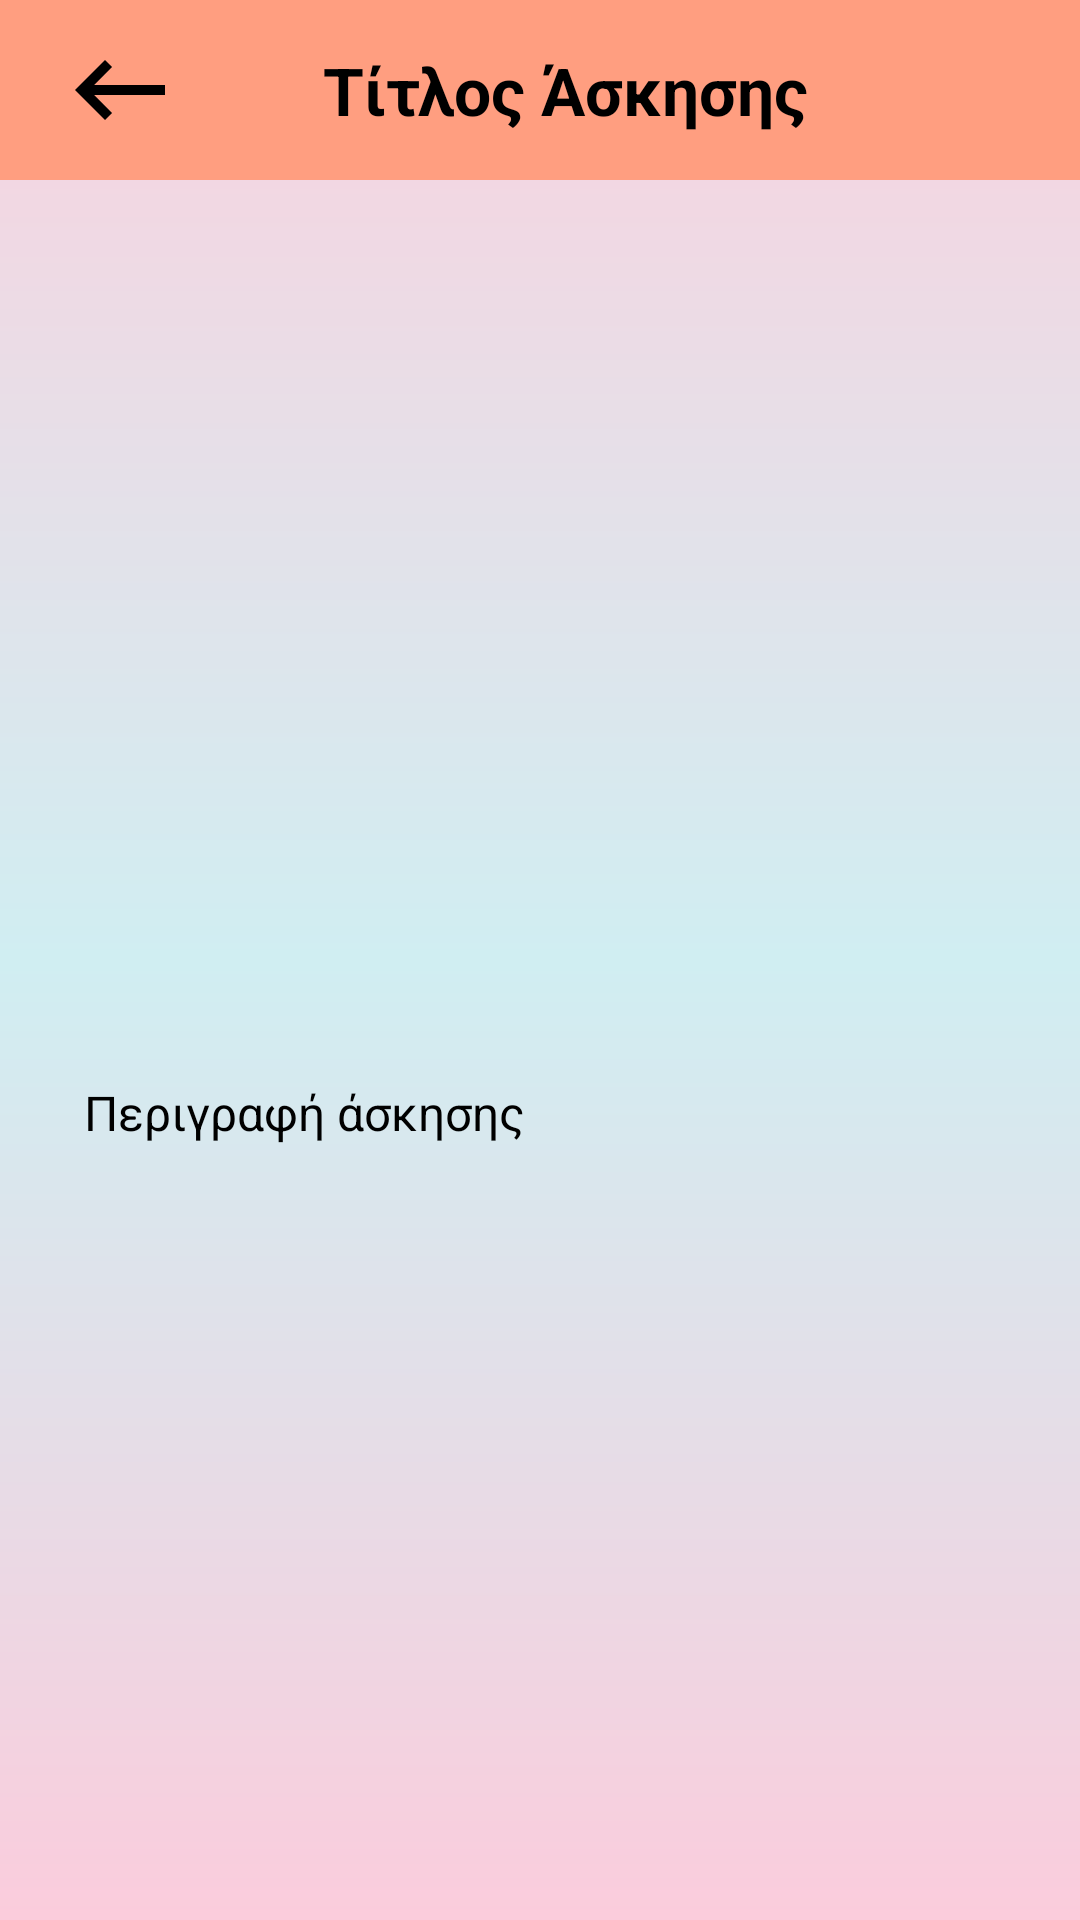

Screen size 1080px x 1920px. Icon name, then its box in pixels as (x1, y1, x2, y2):
go back: (75, 60, 165, 120)
